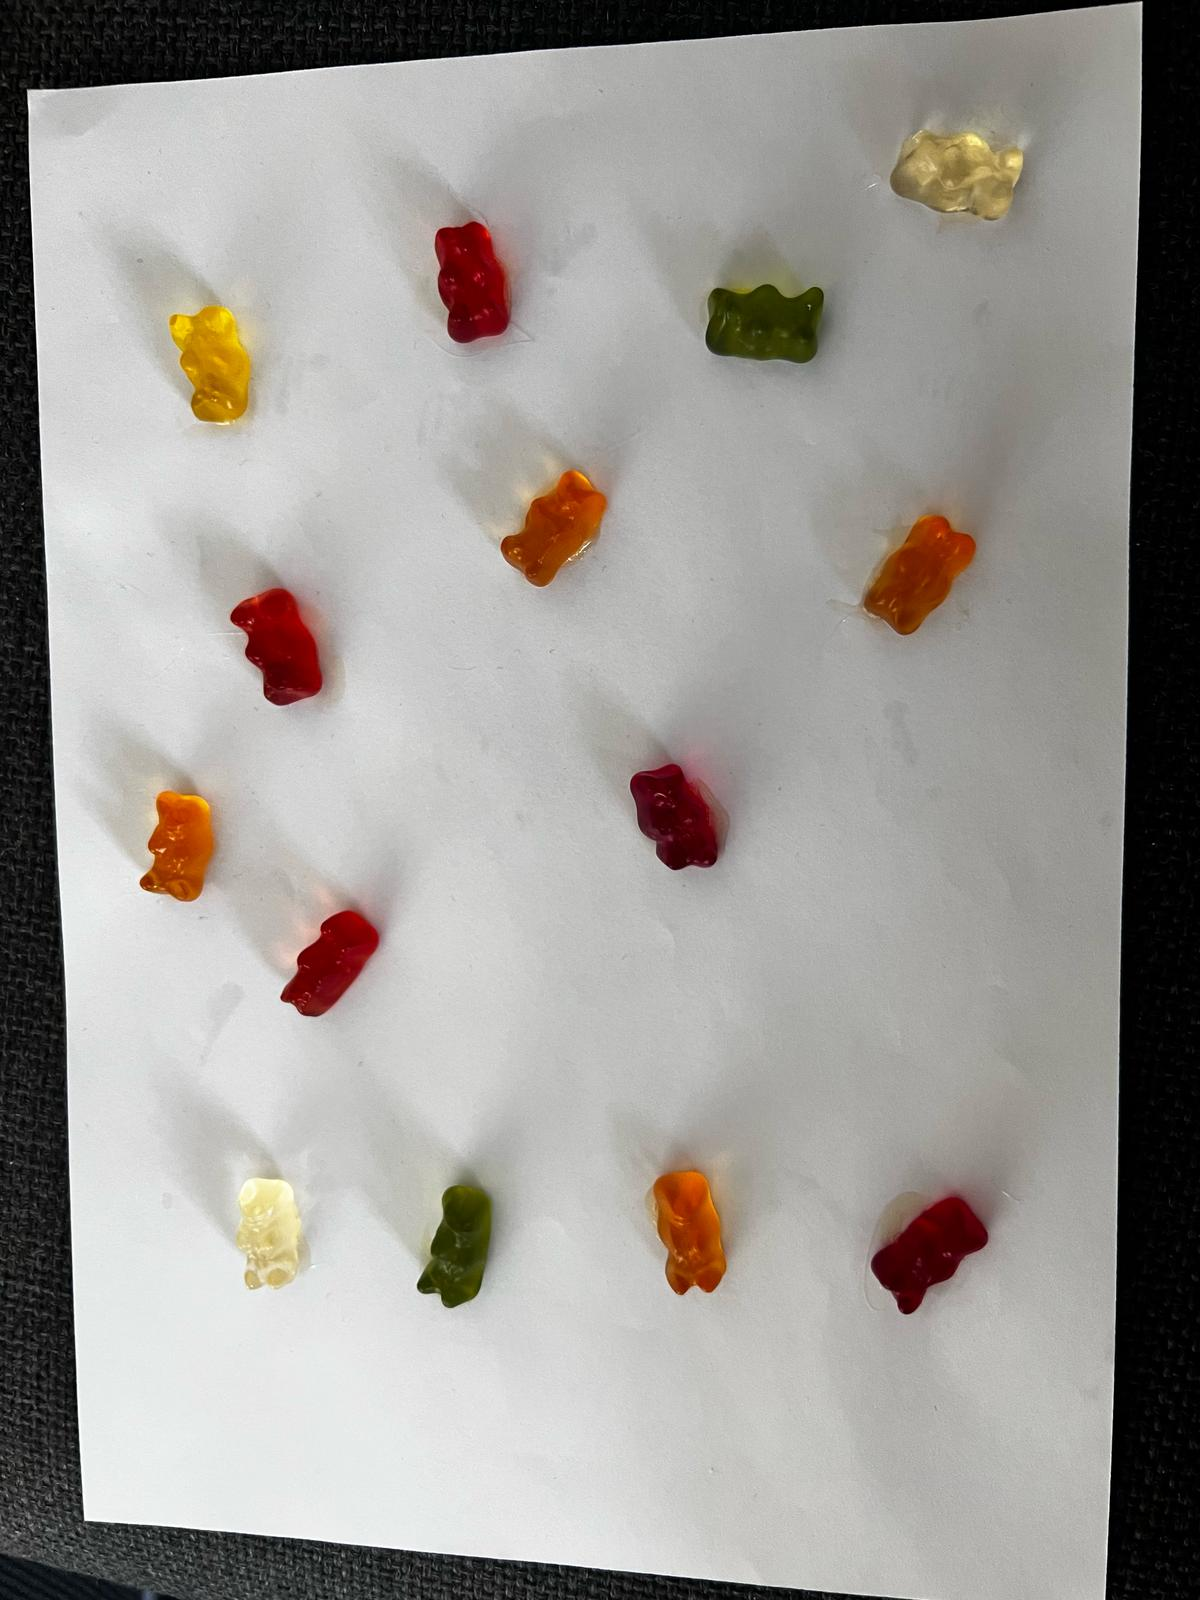gummybear: (200, 547, 349, 724), (266, 858, 402, 1047), (595, 734, 753, 892), (863, 1172, 1001, 1330), (852, 498, 987, 655), (489, 459, 632, 595), (205, 1155, 342, 1298), (118, 779, 239, 930), (885, 117, 1042, 227), (689, 275, 850, 370), (405, 1175, 516, 1311), (645, 1157, 740, 1304), (163, 297, 260, 438), (430, 212, 523, 346)
